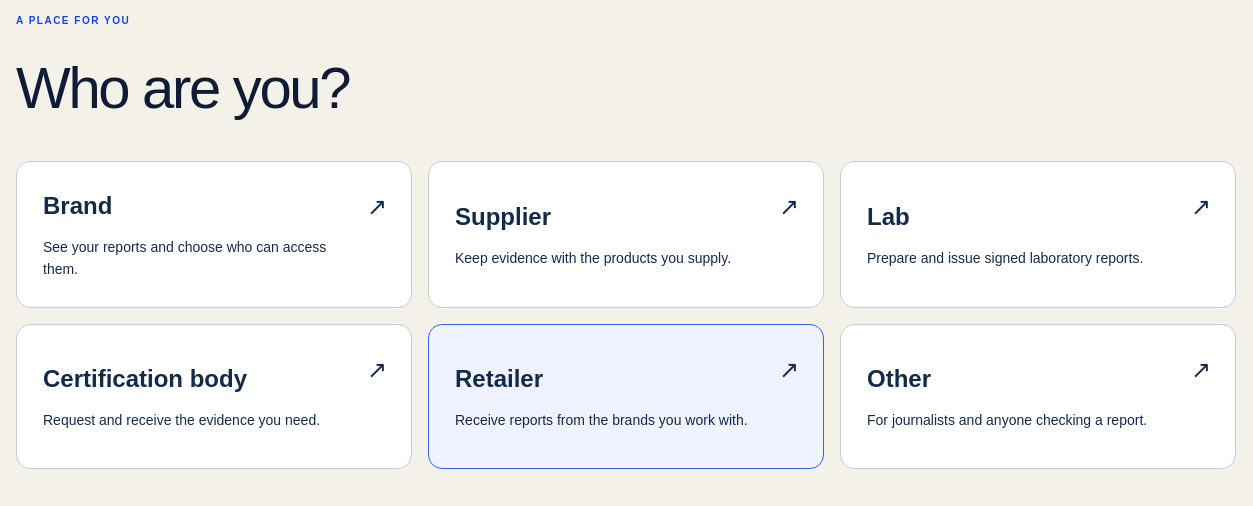
Test: shows a retry after failed role onboarding and posts only the role
The image size is (1253, 506).
Click the button "Lab Prepare and issue signed laboratory reports. ↗" at [888, 217], box [840,161,1236,308]
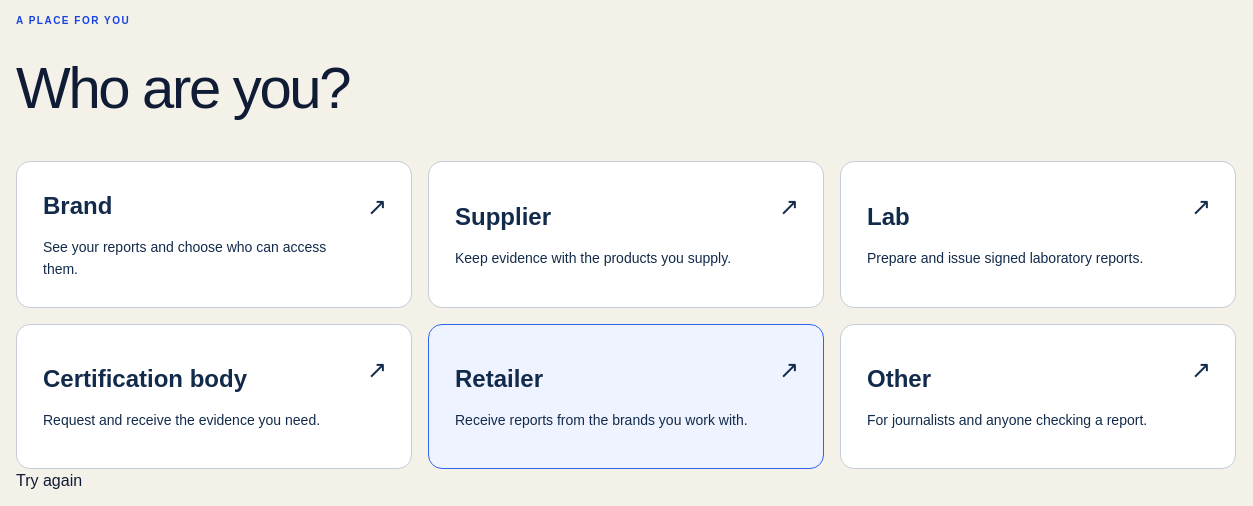
Now the text "Try again" is shown, box [16,472,82,489]
